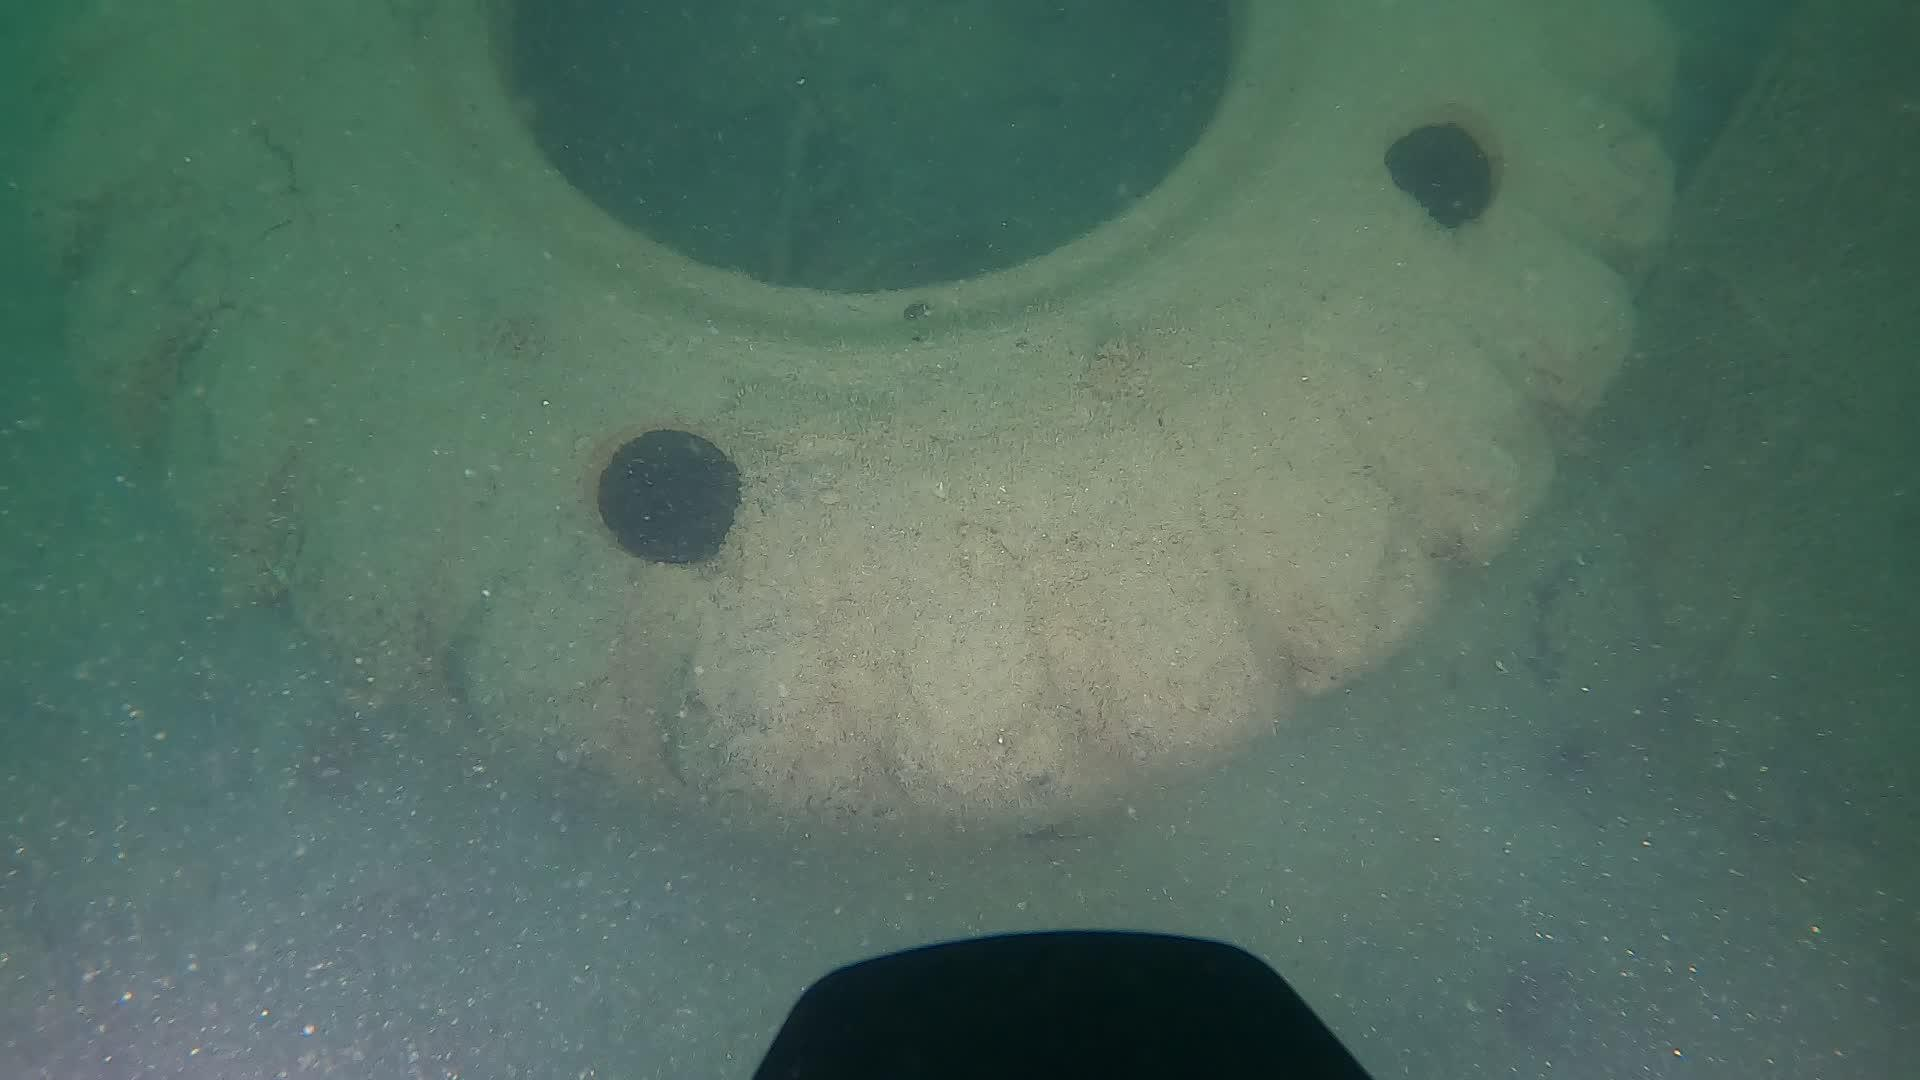tire: (0, 0, 1684, 845)
